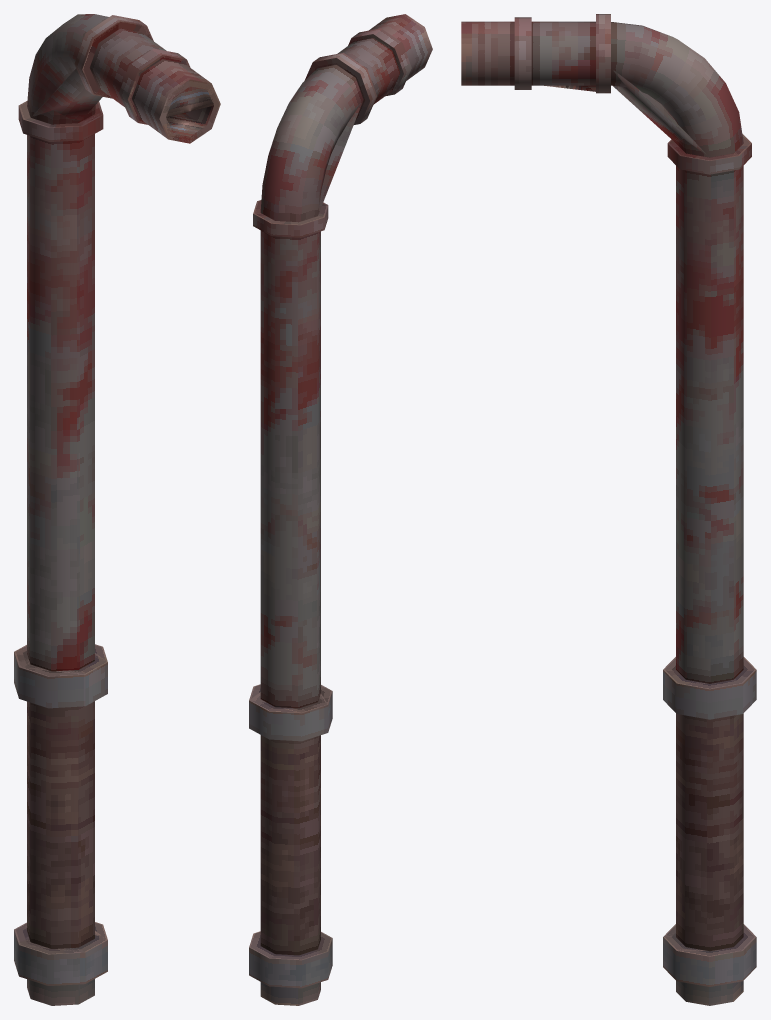
The model's file is item_butcherpipe.glb.
3 renders of one model, left to right at view 1: azimuth 30°, elevation 25°; view 2: azimuth 150°, elevation 25°; view 3: azimuth 270°, elevation 25°, orthographic. The views are drawn at different scales.
Parts seen in each view (by area): view 1: ButcherPipe; view 2: ButcherPipe; view 3: ButcherPipe.
Part boxes in pixels (left/top/right/bottom): ButcherPipe: left=14, top=14, right=220, bottom=1005; ButcherPipe: left=249, top=14, right=432, bottom=1005; ButcherPipe: left=461, top=14, right=756, bottom=1005.
Size of the model in its own units: 0.0438 by 0.5048 by 0.1383.
1 material, 1 textured.
